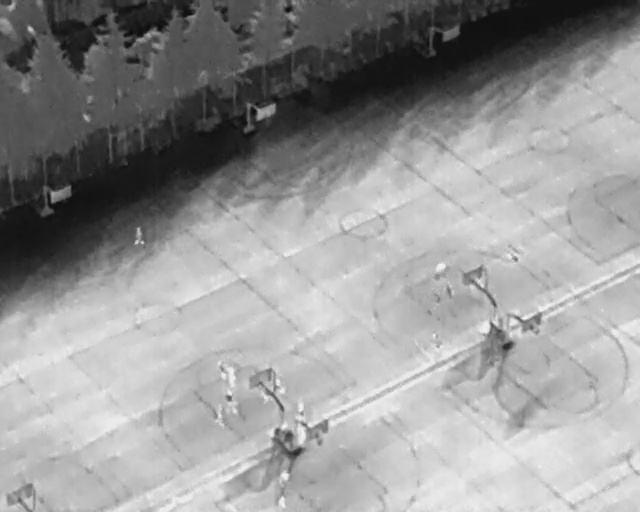Person: (430, 259, 450, 279), (222, 390, 237, 413), (216, 360, 229, 384), (443, 279, 457, 301), (276, 467, 292, 485), (295, 424, 307, 447), (271, 377, 286, 395), (215, 404, 225, 426), (295, 401, 306, 421), (134, 224, 144, 245), (227, 366, 236, 388), (276, 494, 289, 509)
